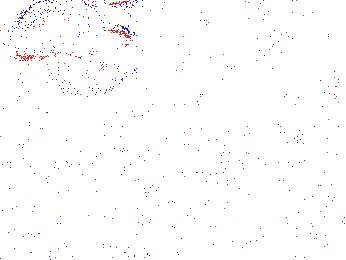moon jellyfish: (175, 8, 278, 92), (46, 22, 140, 98), (253, 32, 346, 103), (13, 1, 107, 61)
